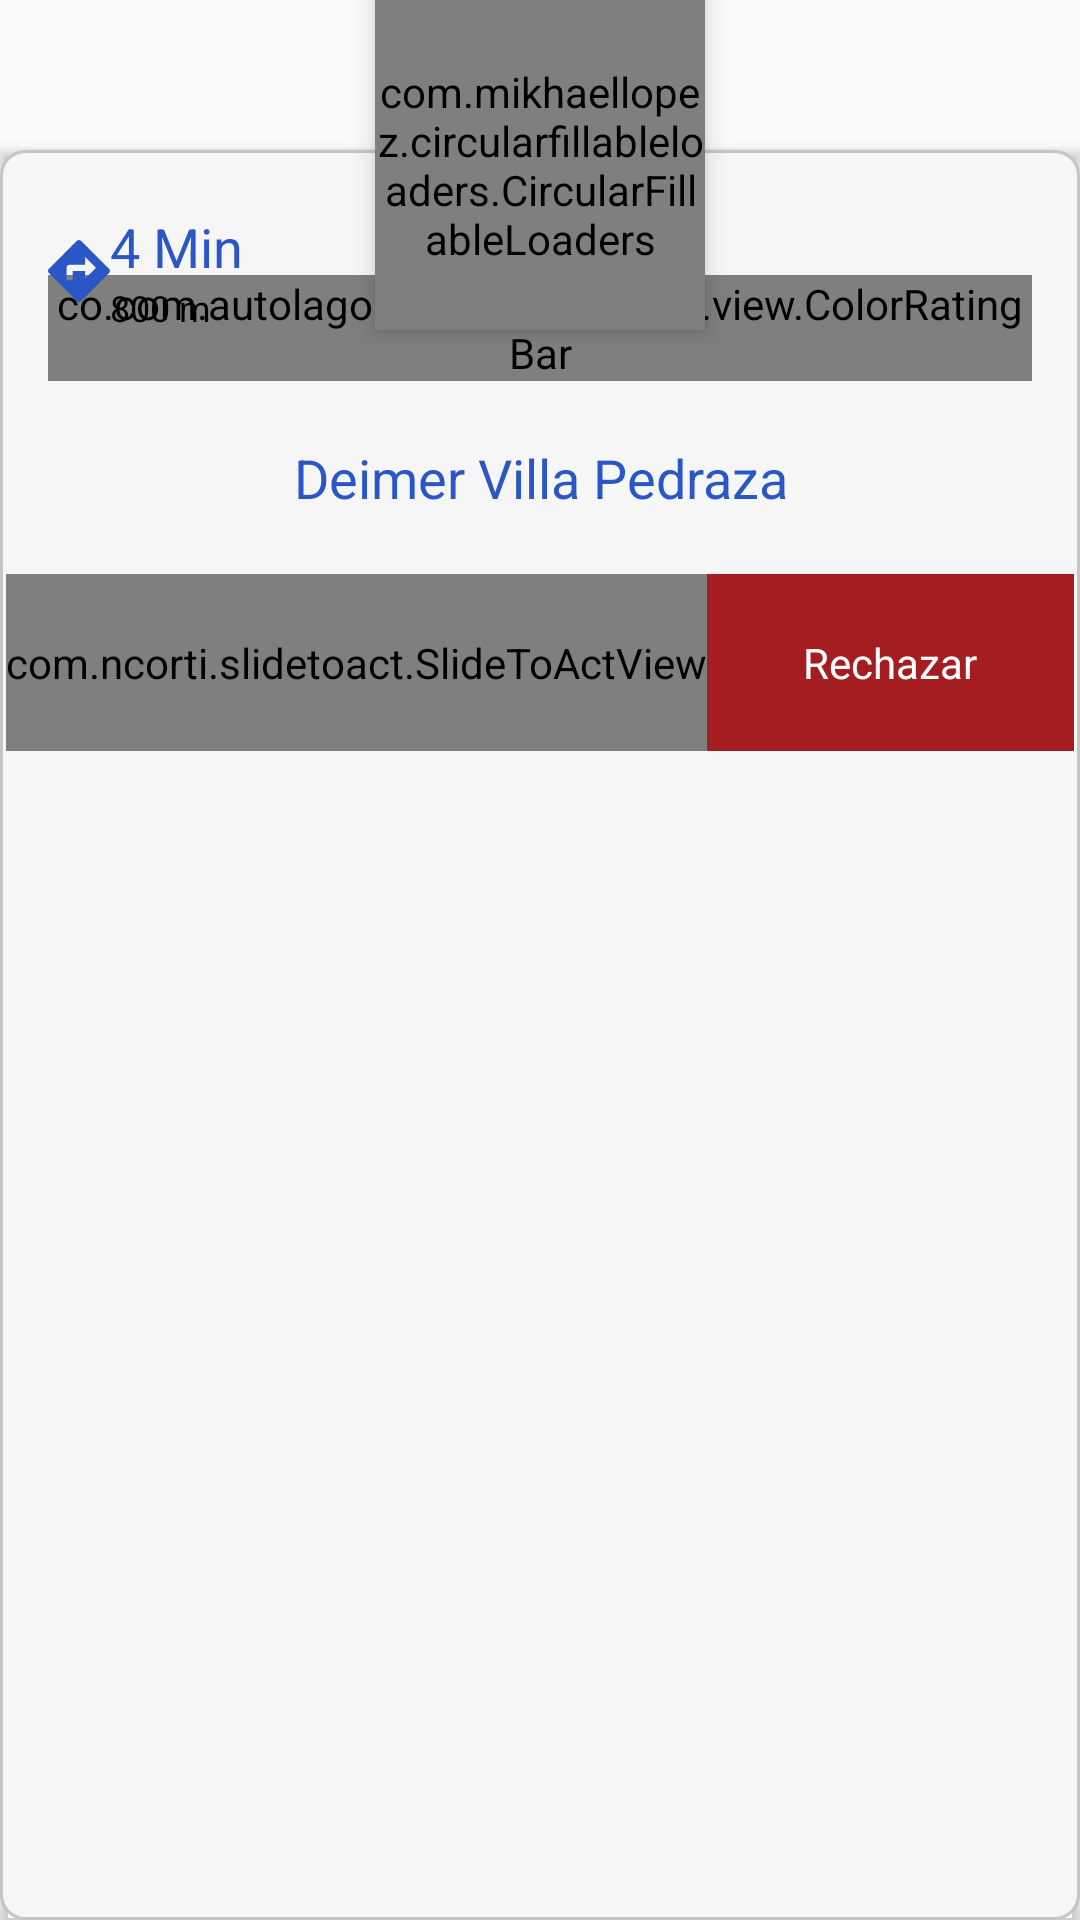

Point at icon controls on the screen. Image size 1080 × 1920, points as (x=x, y=y).
distancia: (x=79, y=271)
